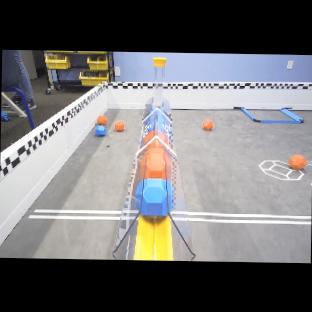Goal: (112, 97, 195, 261)
Parking - B: (233, 107, 303, 123)
V5_BLUE: (135, 178, 173, 216), (142, 108, 171, 135), (94, 125, 106, 136)
V5_RED: (140, 139, 171, 179), (142, 130, 169, 144), (288, 154, 307, 170), (202, 119, 213, 130), (114, 120, 124, 131), (96, 115, 107, 125)
blueingoal: (135, 178, 173, 216), (142, 108, 171, 135)
redingoal: (140, 130, 171, 179), (143, 130, 156, 143)
